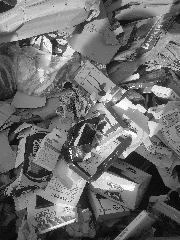paper: (0, 1, 180, 239), (0, 0, 100, 44), (58, 1, 122, 65), (86, 160, 152, 210), (68, 134, 132, 182), (112, 13, 176, 61), (72, 60, 126, 106), (26, 192, 78, 234), (33, 172, 86, 208), (62, 117, 100, 163), (33, 128, 68, 172), (86, 188, 130, 223), (114, 210, 156, 240), (11, 91, 47, 109), (150, 85, 180, 103), (14, 138, 26, 168), (147, 120, 165, 138)
